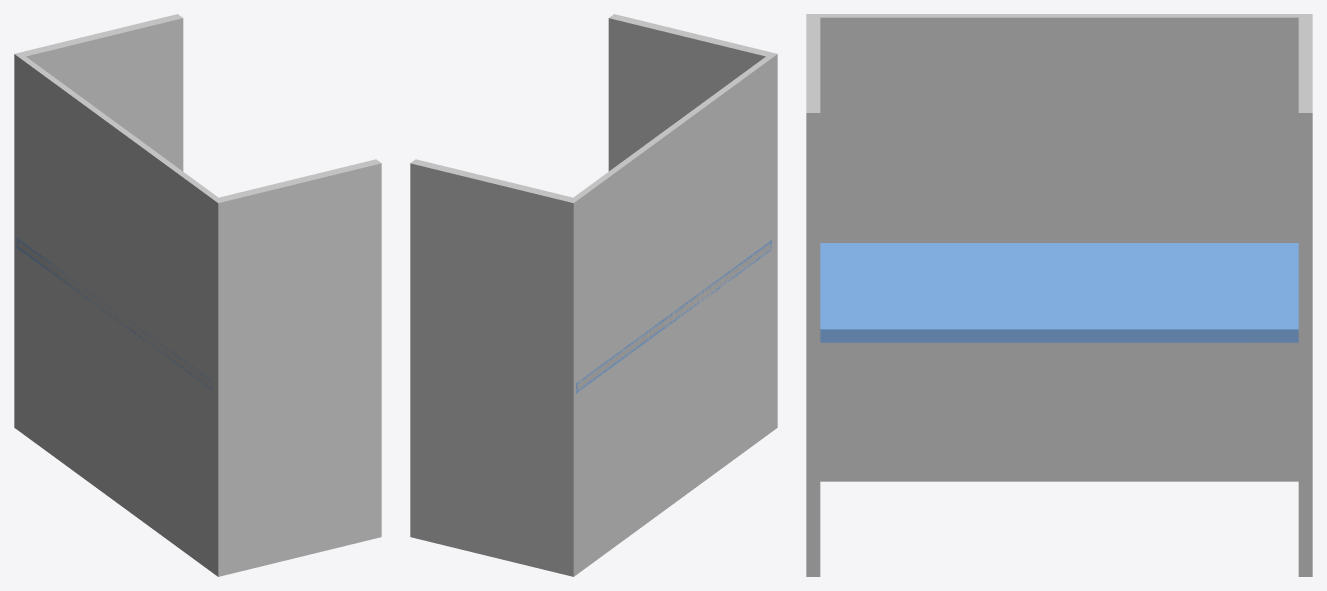
The model's file is Cubicle_final.glb.
3 views of the same model, side by side, from view 1: azimuth 30°, elevation 25°; view 2: azimuth 150°, elevation 25°; view 3: azimuth 270°, elevation 25° (orthographic). The views are drawn at different scales.
Parts seen in each view (by area): view 1: Cube.001; view 2: Cube.001; view 3: Cube.001.
Boxes of the visible parts, x1,y1,x2,y2 form: Cube.001: (14,14,381,576); Cube.001: (410,14,777,576); Cube.001: (806,14,1312,576).
Bounding box in the file's own units: 1.12 × 2.45 × 2.42.
2 materials, 1 textured.
